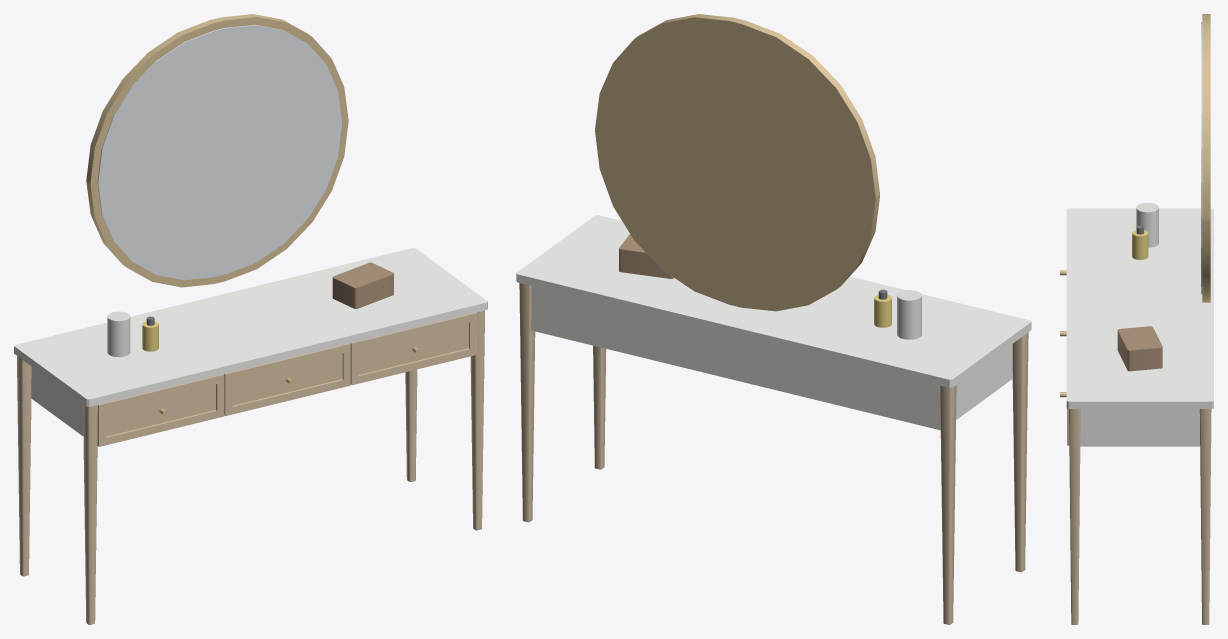
3 views of the same model, side by side, from view 1: azimuth 30°, elevation 25°; view 2: azimuth 150°, elevation 25°; view 3: azimuth 270°, elevation 25° (orthographic). The views are drawn at different scales.
Visible parts, largest first — view 1: Bàn trang điểm Dài=1400; Sâu=450; view 2: Bàn trang điểm Dài=1400; Sâu=450; view 3: Bàn trang điểm Dài=1400; Sâu=450.
Part boxes in pixels (x1=…): Bàn trang điểm Dài=1400; Sâu=450: x1=14, y1=14, x2=487, y2=624; Bàn trang điểm Dài=1400; Sâu=450: x1=516, y1=14, x2=1031, y2=624; Bàn trang điểm Dài=1400; Sâu=450: x1=1060, y1=14, x2=1213, y2=624.
Bounding box in the file's own units: 1.4 × 1.69 × 0.47.
